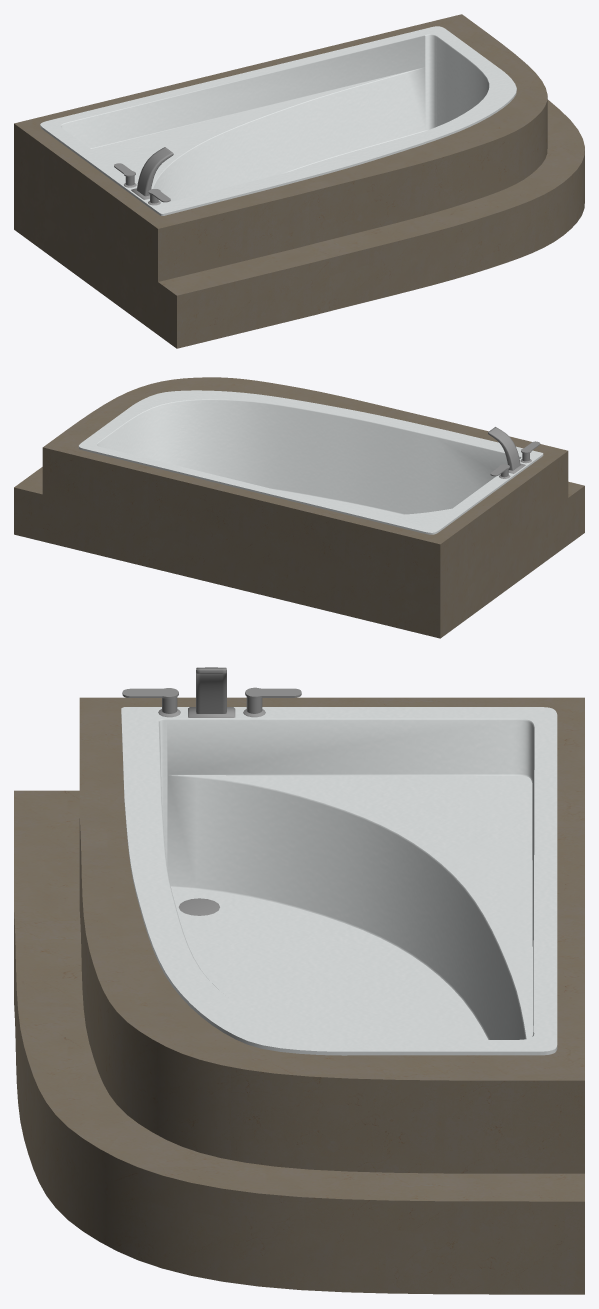
The model's file is Bath.FBX.
The picture shows the model from 3 angles, top to bottom: view 1: azimuth 30°, elevation 25°; view 2: azimuth 150°, elevation 25°; view 3: azimuth 270°, elevation 25°; orthographic projection. The views are drawn at different scales.
Visible parts, largest first — view 1: Bath; view 2: Bath; view 3: Bath.
Part boxes in pixels (x1,y1,x2,y2): Bath: (14,14,584,348); Bath: (14,377,584,638); Bath: (14,667,584,1294).
Size of the model in its own units: 103 by 29.74 by 60.23.
